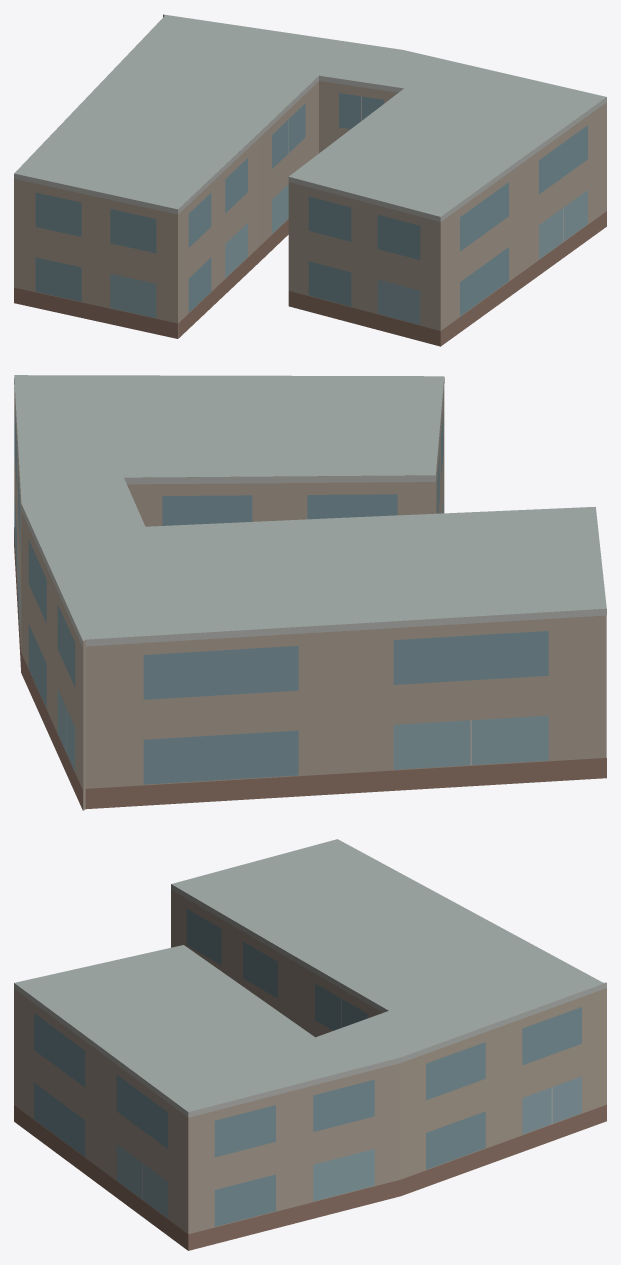
File: survey-upis-32583624.glb
The picture shows the model from 3 angles, top to bottom: view 1: azimuth 30°, elevation 25°; view 2: azimuth 150°, elevation 25°; view 3: azimuth 270°, elevation 25°; orthographic projection. The views are drawn at different scales.
Visible parts, largest first — view 1: survey-upis-32583624.tmp; view 2: survey-upis-32583624.tmp; view 3: survey-upis-32583624.tmp.
Part boxes in pixels (<box>): survey-upis-32583624.tmp: <box>14,14,606,346</box>; survey-upis-32583624.tmp: <box>14,375,606,810</box>; survey-upis-32583624.tmp: <box>14,839,606,1250</box>.
Size of the model in its own units: 25.77 by 6.1 by 23.64.
